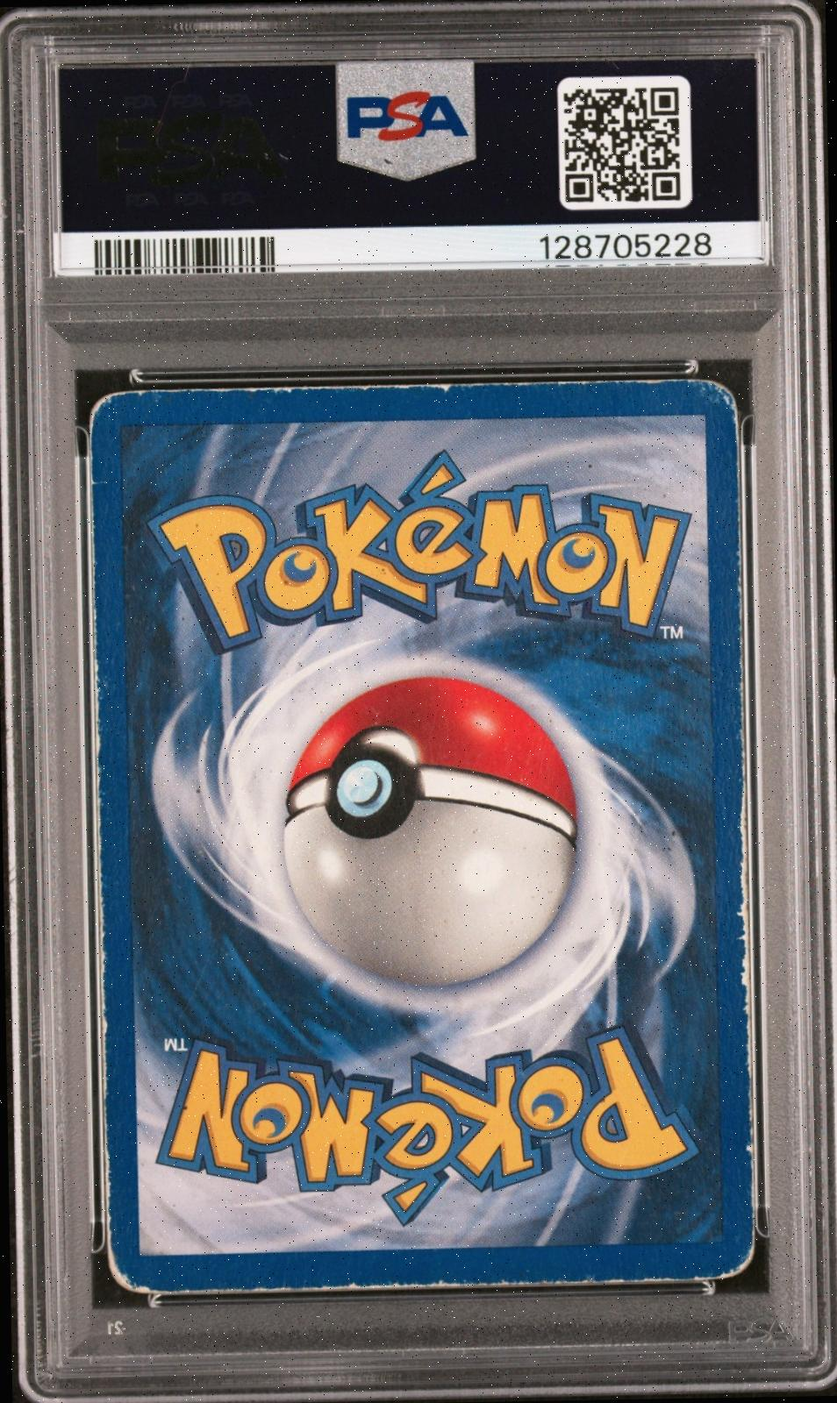card-2UtV: (88, 378, 756, 1295)
